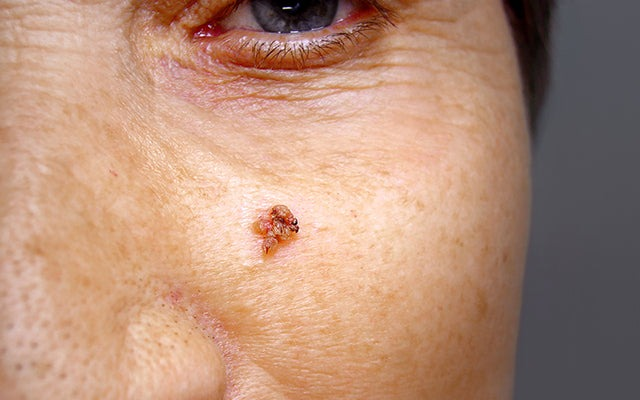Warts: (230, 182, 314, 279)
